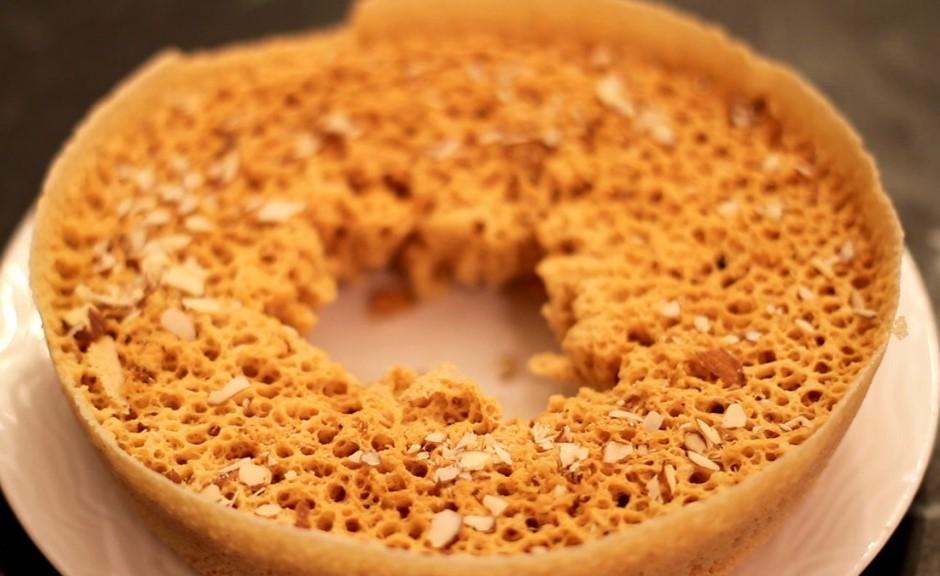Ghevar: (27, 0, 903, 576)
